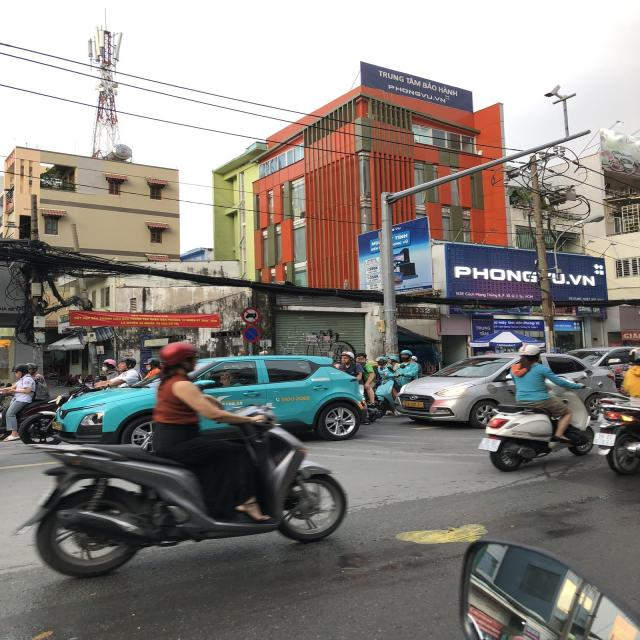Bien bao cam do xe: (241, 325, 263, 343)
Bien bao cam xe oto tai: (241, 306, 261, 324)
